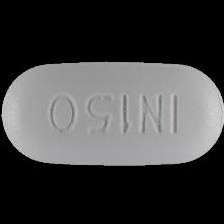0591-3770: (0, 0, 224, 224)
